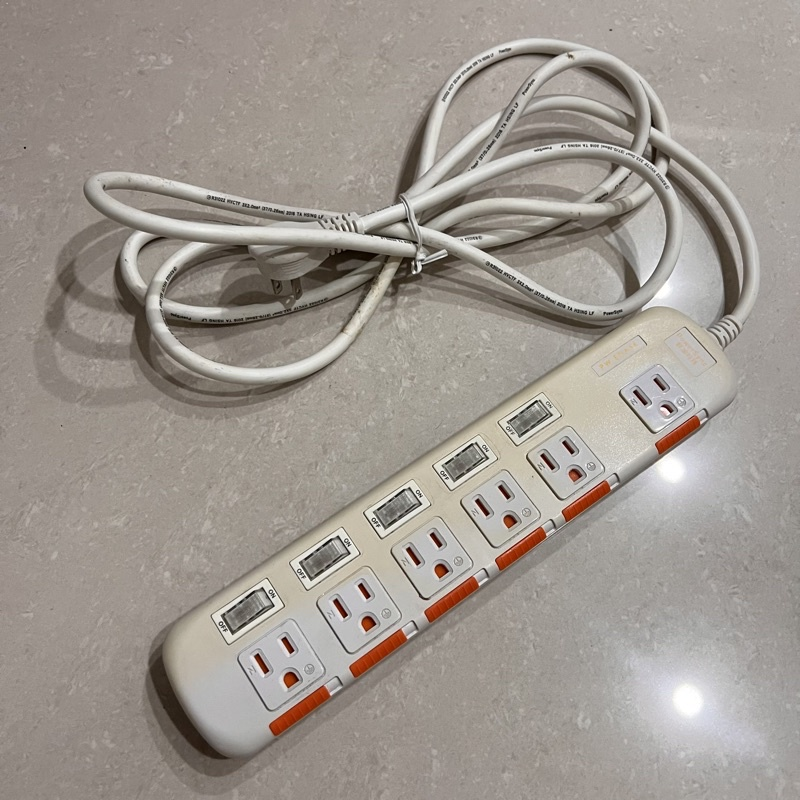socket: (156, 304, 744, 761)
